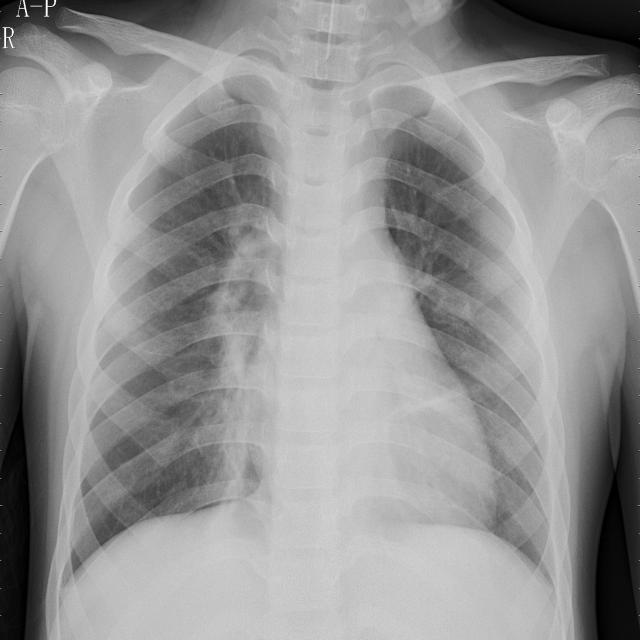low-pneumonia: (199, 216, 269, 477)
